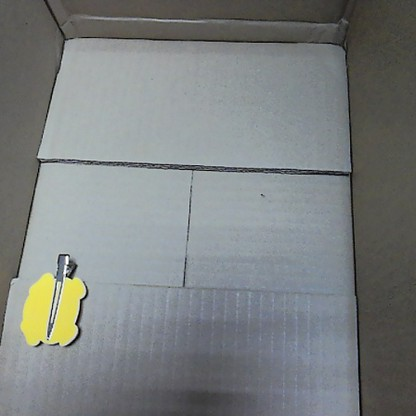dogclip: (20, 253, 88, 348)
